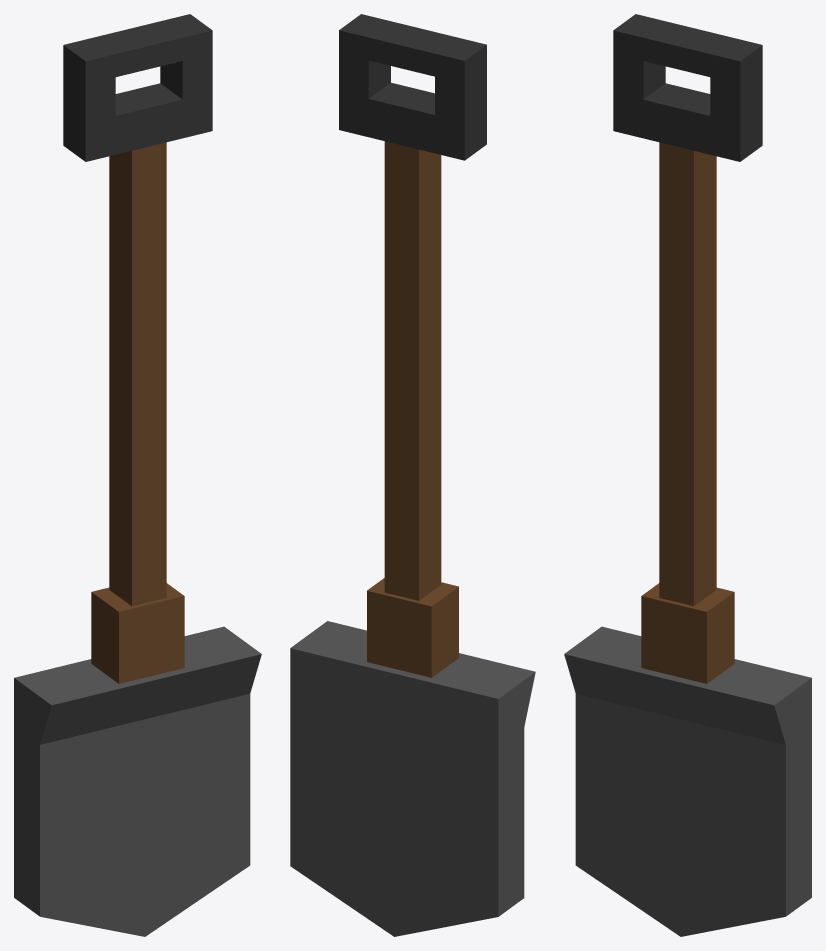
Rendered from Shovel.fbx.
3 renders of one model, left to right at view 1: azimuth 30°, elevation 25°; view 2: azimuth 150°, elevation 25°; view 3: azimuth 330°, elevation 25°, orthographic.
Parts seen in each view (by area): view 1: Shovel; view 2: Shovel; view 3: Shovel.
Part boxes in pixels (x1=…): Shovel: x1=14, y1=14, x2=261, y2=936; Shovel: x1=290, y1=14, x2=535, y2=936; Shovel: x1=564, y1=14, x2=811, y2=936.
Size of the model in its own units: 0.2289 by 0.9305 by 0.071.
